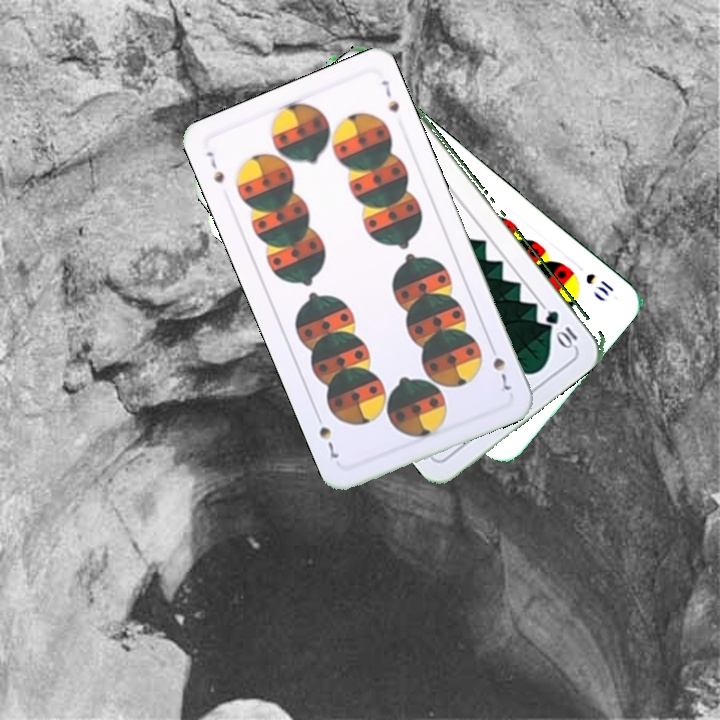G10: (543, 306, 580, 350)
S10: (581, 269, 617, 299)
S7: (485, 339, 514, 393), (202, 147, 227, 186)
